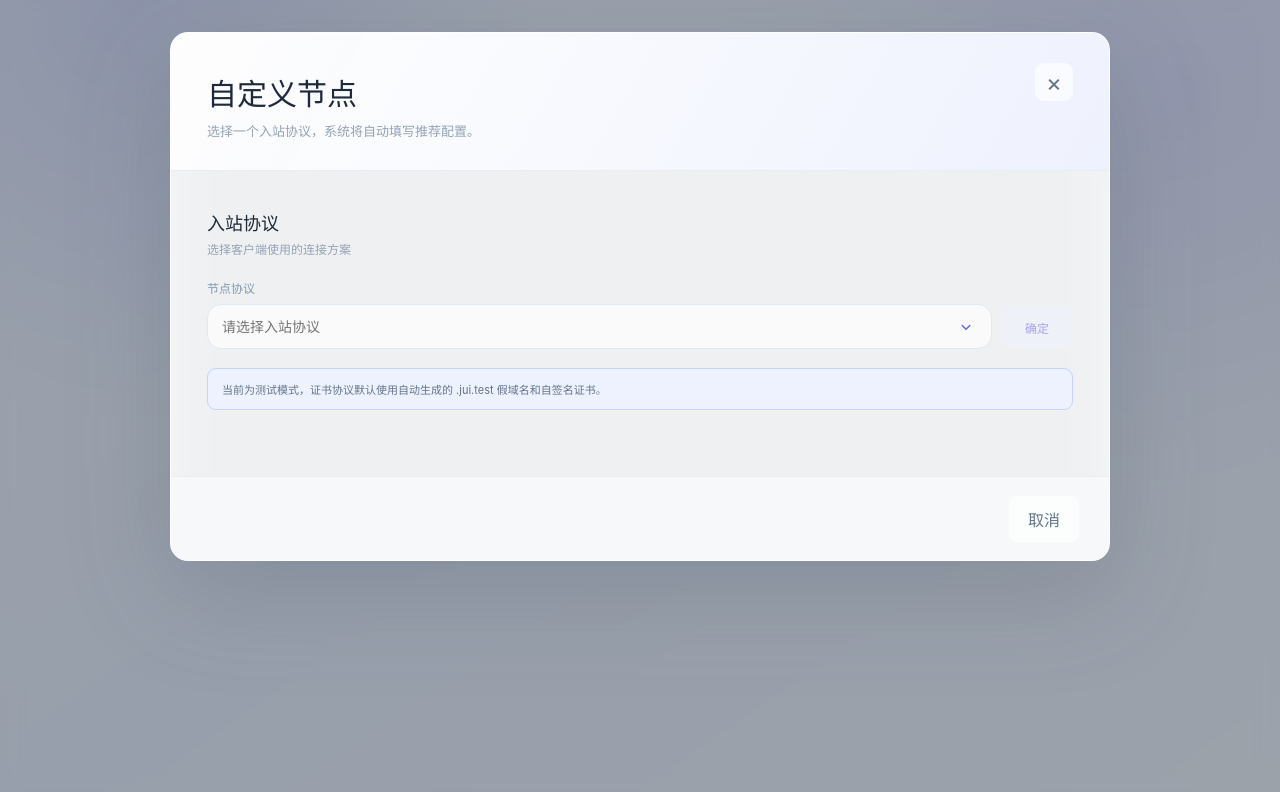
Test case: NodeFormModal › keeps automatic fields locked and directly follows a Reality target
The width and height of the screenshot is (1280, 792).
Click the button with class "dropdown-trigger". click: (966, 327)
box: [948,309,984,345]
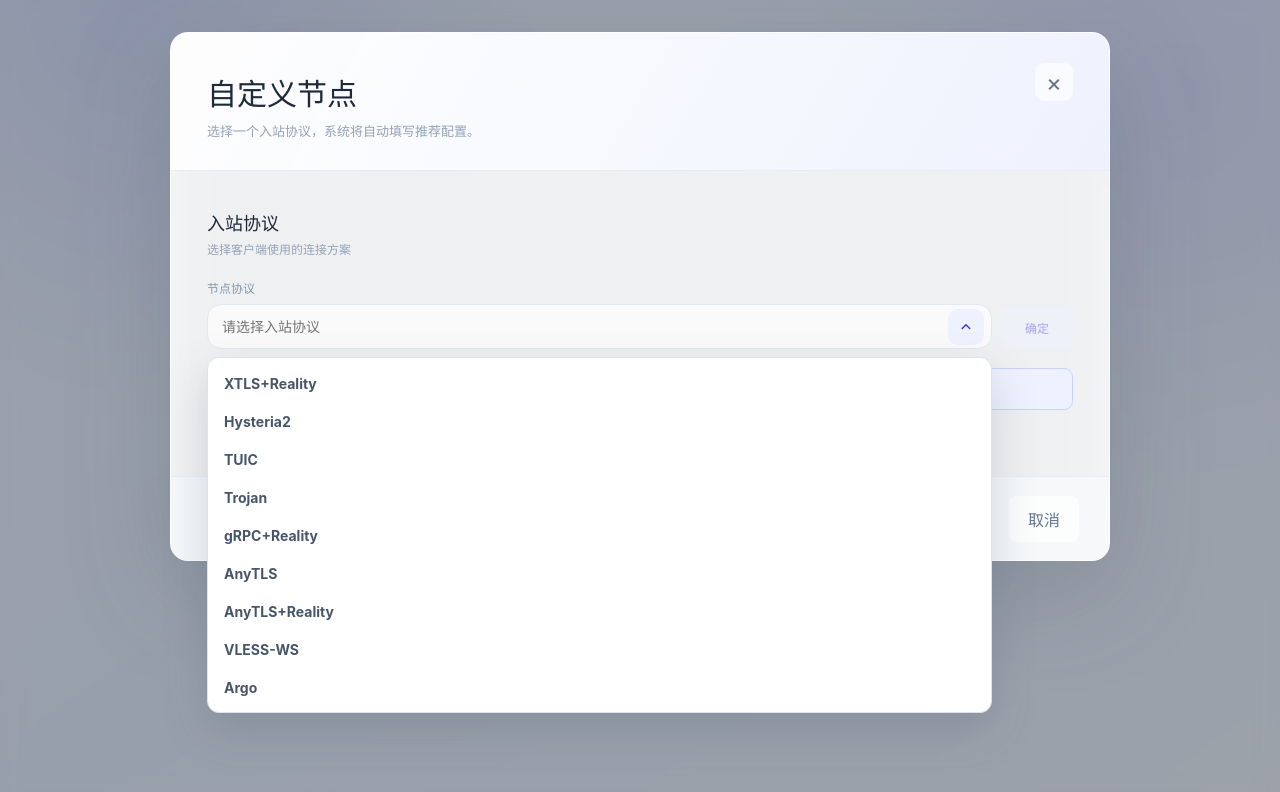
Click the option with class "dropdown-option" showing "XTLS+Reality". click: (270, 383)
box: [214,364,985,402]
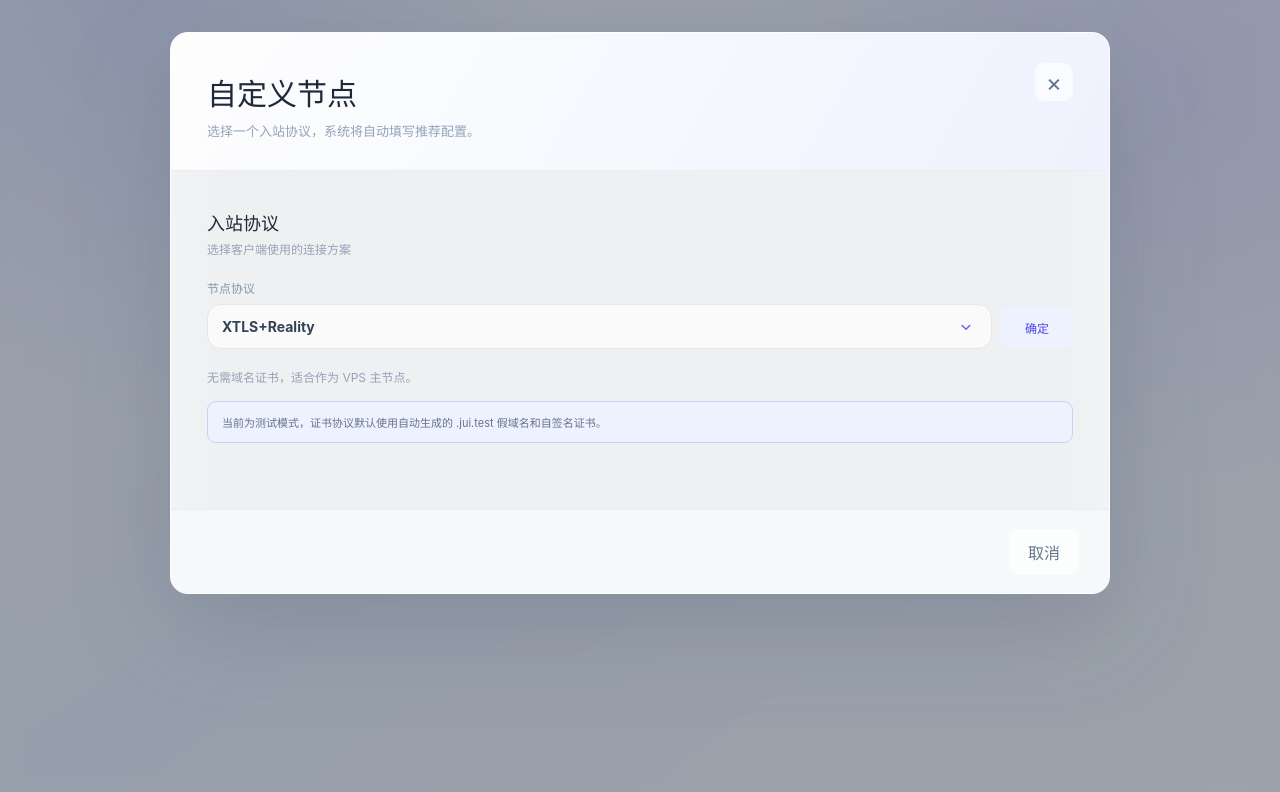
Click the button "确定". click: (1037, 327)
box: [1001,306,1073,348]
(page scrolled)
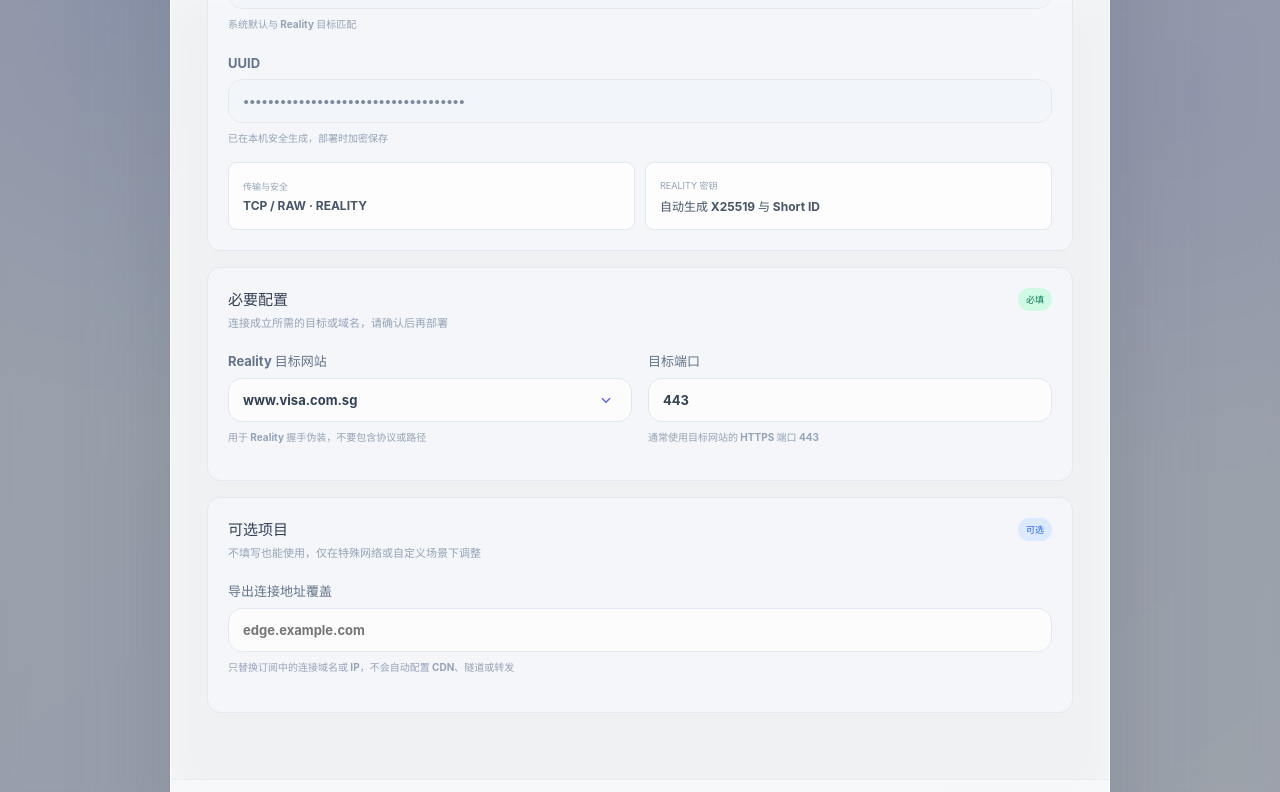
Replace the text in the dropdown labelled "Reality 目标网站 用于 Reality 握手伪装，不要包含协议或路径" with "www.cloudflare.com". click: (430, 400)
box: [228,378,632,422]
(page scrolled)
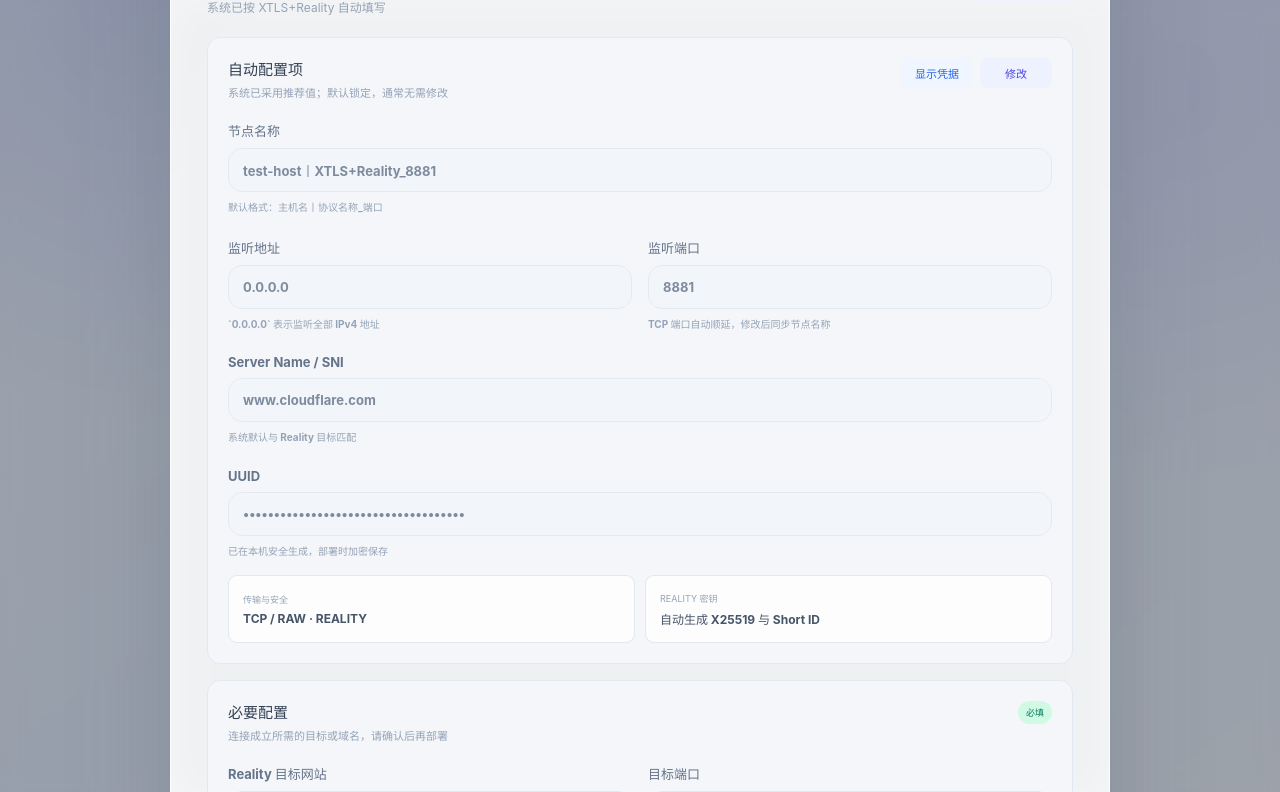
Result: the field labelled "Server Name / SNI 系统默认与 Reality 目标匹配" holds "www.cloudflare.com" at [228,378,1052,422]
